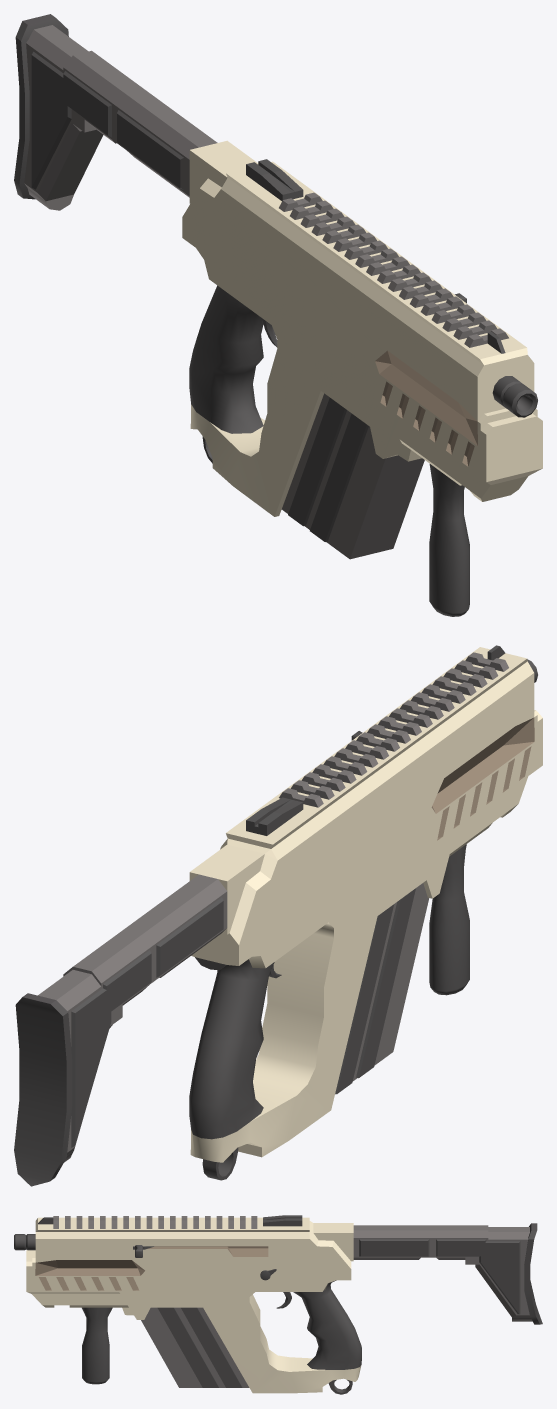
Rendered from weapon_submanchinegun.fbx.
3 views of the same model, one above another, from view 1: azimuth 30°, elevation 25°; view 2: azimuth 150°, elevation 25°; view 3: azimuth 270°, elevation 25° (orthographic). The views are drawn at different scales.
Parts seen in each view (by area): view 1: weapon_submachinegun; view 2: weapon_submachinegun; view 3: weapon_submachinegun.
Part boxes in pixels (box(x1,y1,x2,y2)): weapon_submachinegun: box(14, 14, 542, 616); weapon_submachinegun: box(14, 645, 542, 1186); weapon_submachinegun: box(14, 1215, 542, 1394).
Size of the model in its own units: 7.71 by 29.05 by 79.5.
1 material, 1 textured.
